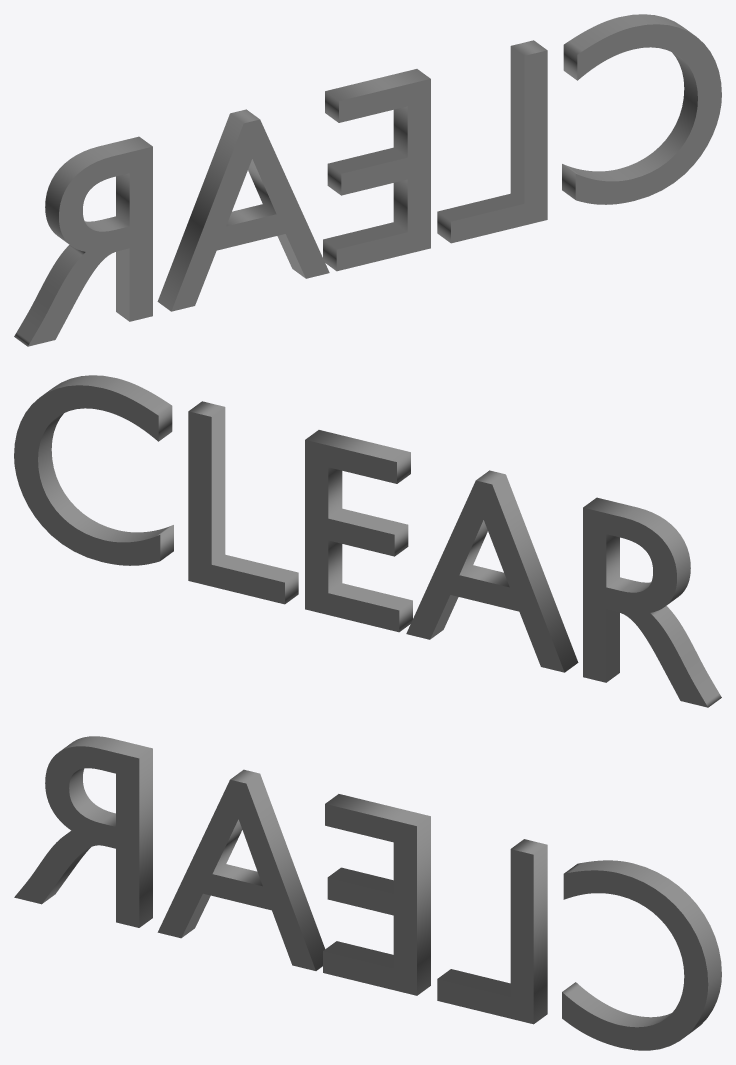
File: clear.obj
3 renders of one model, top to bottom at view 1: azimuth 30°, elevation 25°; view 2: azimuth 150°, elevation 25°; view 3: azimuth 330°, elevation 25°, orthographic.
Parts seen in each view (by area): view 1: CLEAR; view 2: CLEAR; view 3: CLEAR.
Part boxes in pixels (<box>): CLEAR: <box>14,14,721,346</box>; CLEAR: <box>14,375,721,707</box>; CLEAR: <box>14,736,721,1050</box>.
Size of the model in its own units: 2.92 by 0.7 by 0.1.
